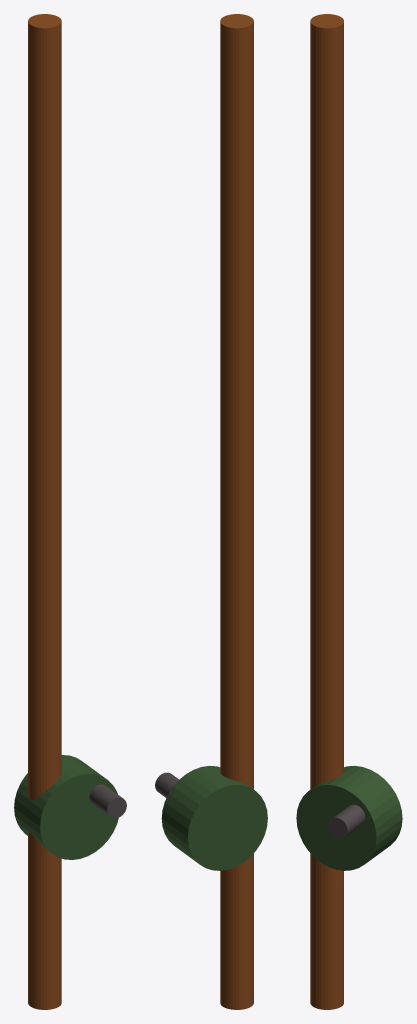
The model's file is Rod.fbx.
3 views of the same model, side by side, from view 1: azimuth 30°, elevation 25°; view 2: azimuth 210°, elevation 25°; view 3: azimuth 330°, elevation 25° (orthographic).
Parts seen in each view (by area): view 1: Cylinder.001; view 2: Cylinder.001; view 3: Cylinder.001.
Boxes of the visible parts, bbox=[...] form: Cylinder.001: bbox=[14, 14, 126, 1009]; Cylinder.001: bbox=[155, 14, 267, 1009]; Cylinder.001: bbox=[296, 14, 402, 1009].
Size of the model in its own units: 13.68 by 160 by 12.97.
